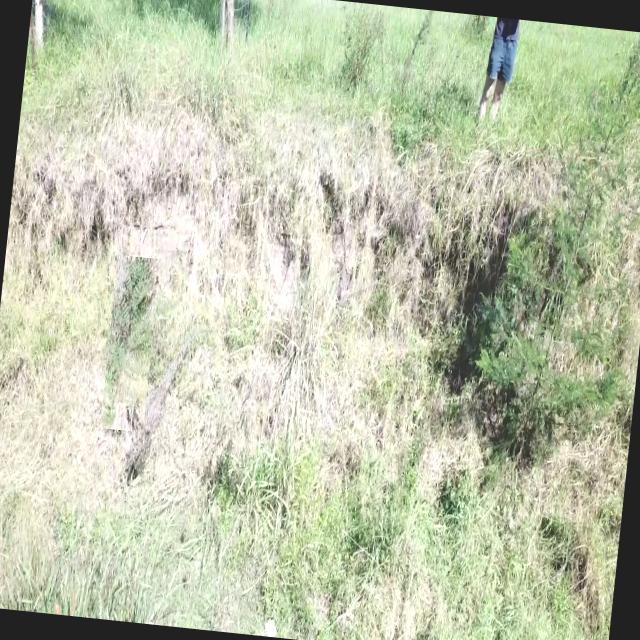Mysore-Thorn-Weed: (100, 255, 160, 432)
